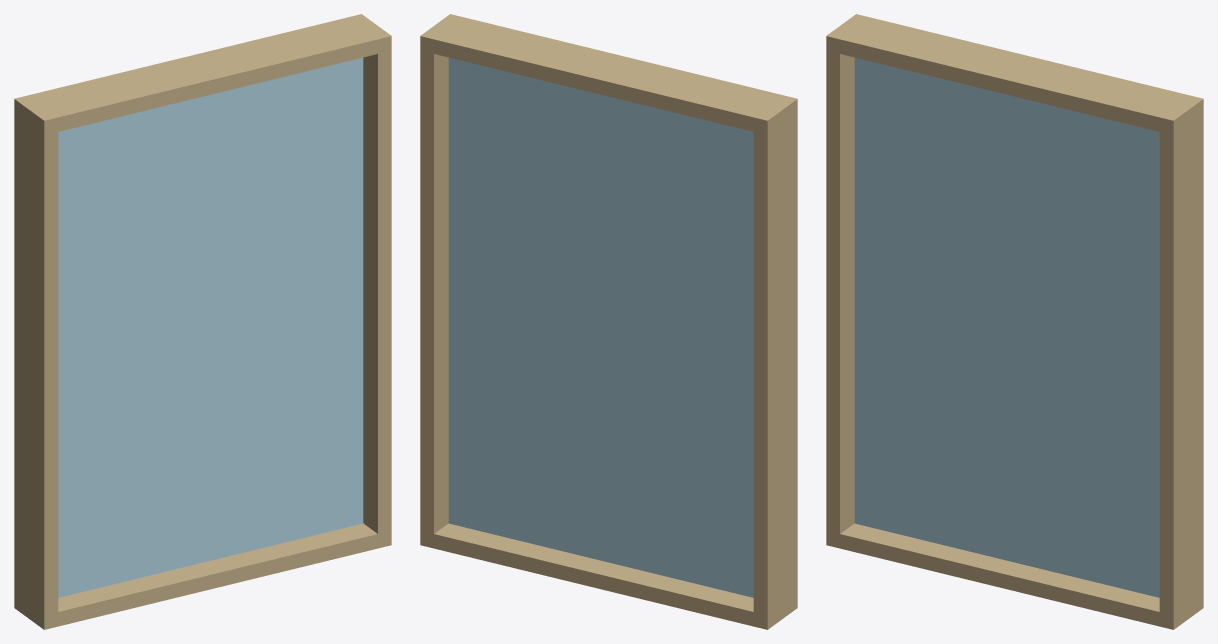
File: janela_100x140.glb
3 views of the same model, side by side, from view 1: azimuth 30°, elevation 25°; view 2: azimuth 150°, elevation 25°; view 3: azimuth 330°, elevation 25° (orthographic).
Visible parts, largest first — view 1: janela_100x140; view 2: janela_100x140; view 3: janela_100x140.
Part boxes in pixels (left/top/right/bottom): janela_100x140: left=14, top=14, right=391, bottom=629; janela_100x140: left=420, top=14, right=797, bottom=629; janela_100x140: left=826, top=14, right=1203, bottom=629.
Size of the model in its own units: 1 by 1.4 by 0.15.
